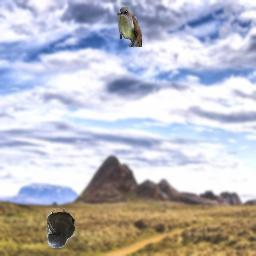Crow: (46, 208, 75, 248)
Cuckoo: (117, 7, 142, 47)
